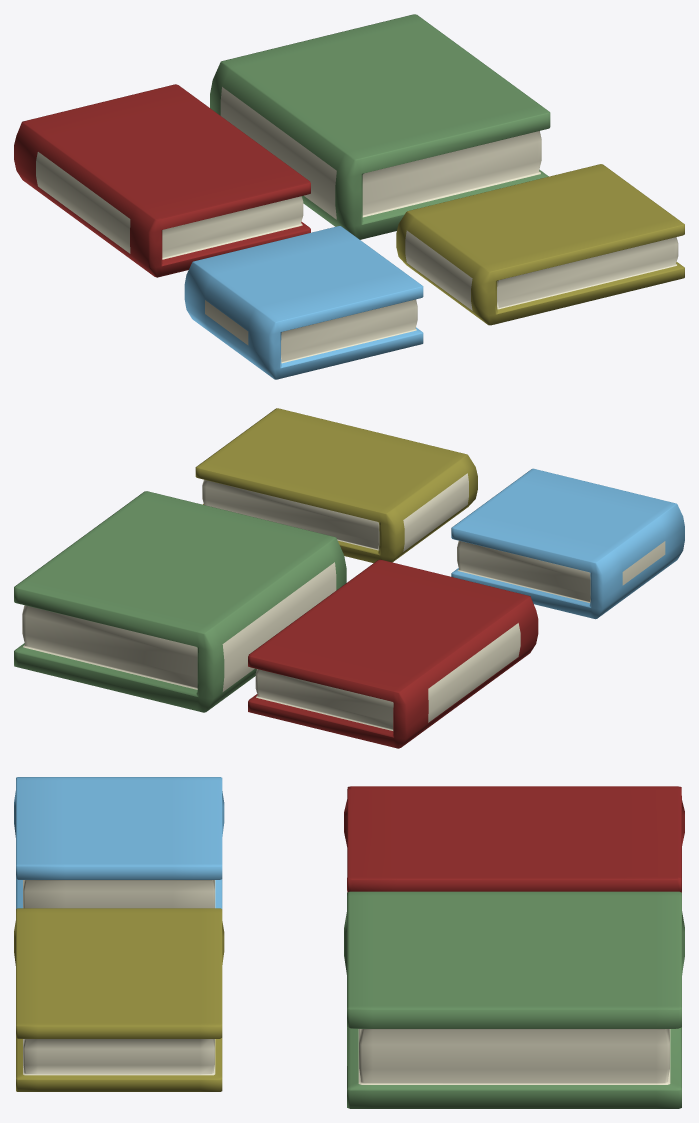
The model's file is Books.fbx.
The picture shows the model from 3 angles, top to bottom: view 1: azimuth 30°, elevation 25°; view 2: azimuth 150°, elevation 25°; view 3: azimuth 270°, elevation 25°; orthographic projection. The views are drawn at different scales.
Parts seen in each view (by area): view 1: Book.002, Book.001, Book.003, Book.004; view 2: Book.002, Book.001, Book.003, Book.004; view 3: Book.002, Book.003, Book.001, Book.004.
Part boxes in pixels (left/top/right/bottom): Book.002: left=210, top=14, right=550, bottom=239; Book.001: left=14, top=84, right=310, bottom=277; Book.003: left=396, top=164, right=684, bottom=325; Book.004: left=184, top=226, right=423, bottom=379; Book.002: left=14, top=491, right=346, bottom=712; Book.001: left=248, top=559, right=538, bottom=748; Book.003: left=195, top=408, right=477, bottom=562; Book.004: left=451, top=468, right=684, bottom=619; Book.002: left=344, top=891, right=684, bottom=1108; Book.003: left=14, top=908, right=224, bottom=1091; Book.001: left=344, top=786, right=684, bottom=892; Book.004: left=14, top=777, right=224, bottom=908.
Size of the model in its own units: 62.26 by 11.6 by 70.24.
